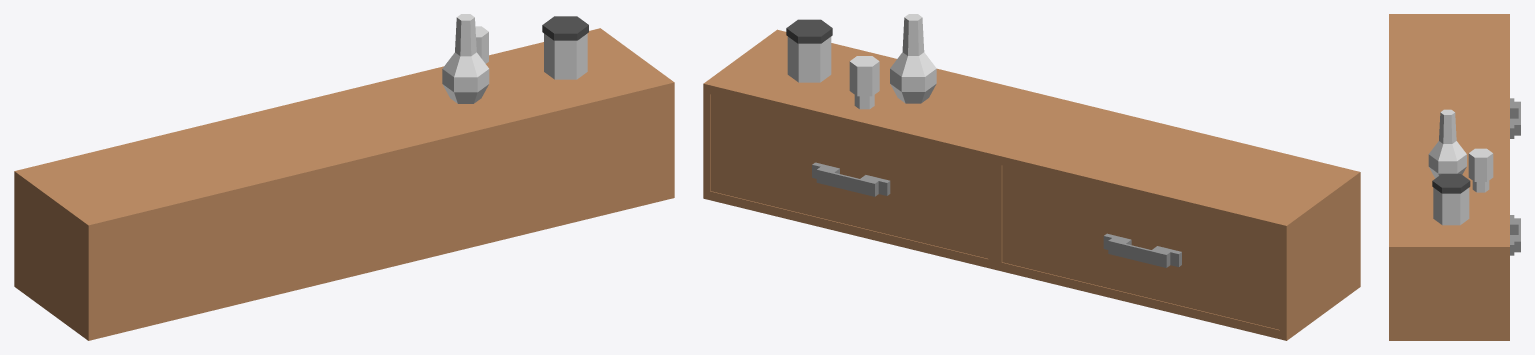
The model's file is MuebleConProductosDeBelleza.fbx.
The picture shows the model from 3 angles, left to right: view 1: azimuth 30°, elevation 25°; view 2: azimuth 150°, elevation 25°; view 3: azimuth 270°, elevation 25°; orthographic projection. The views are drawn at different scales.
Visible parts, largest first — view 1: cabinet.001, body care products.001; view 2: cabinet.001, body care products.001; view 3: cabinet.001, body care products.001.
Boxes of the visible parts, box(x1,y1,x2,y2) form: cabinet.001: box(14, 28, 674, 340); body care products.001: box(442, 14, 588, 103); cabinet.001: box(703, 29, 1360, 340); body care products.001: box(786, 14, 936, 109); cabinet.001: box(1389, 14, 1520, 340); body care products.001: box(1428, 109, 1493, 225).
Size of the model in its own units: 211 by 67.49 by 50.35.
